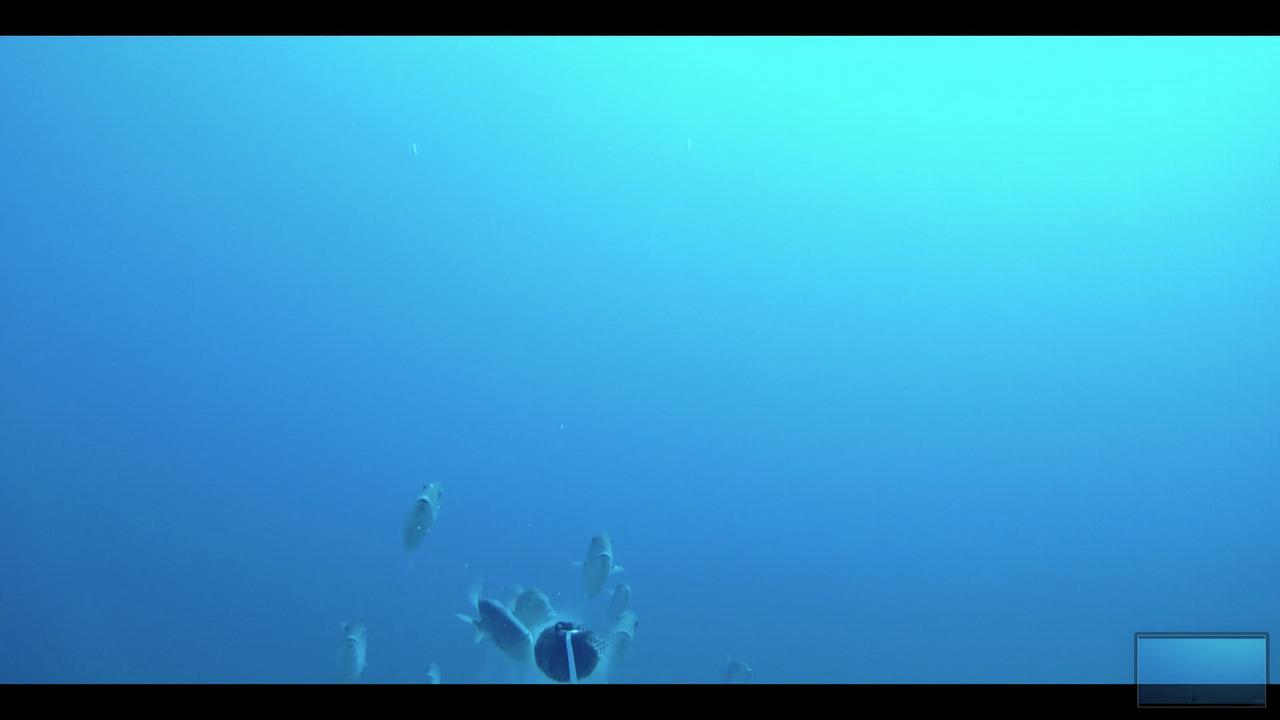balistes: (453, 577, 532, 662), (396, 480, 445, 576), (573, 524, 624, 613), (503, 580, 561, 636), (331, 613, 373, 680), (601, 603, 638, 669)
